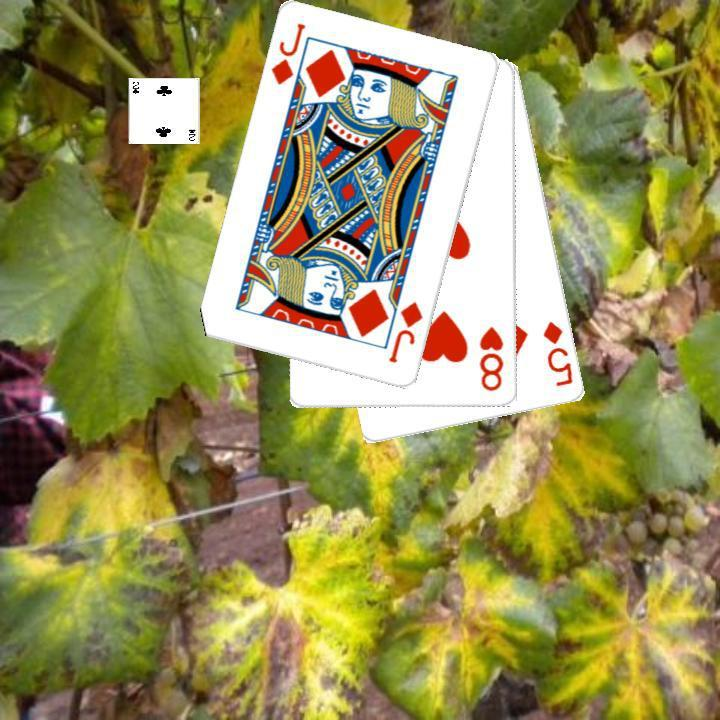5: (539, 317, 576, 389)
8: (475, 322, 507, 393)
J: (384, 297, 426, 366), (267, 19, 308, 88)
